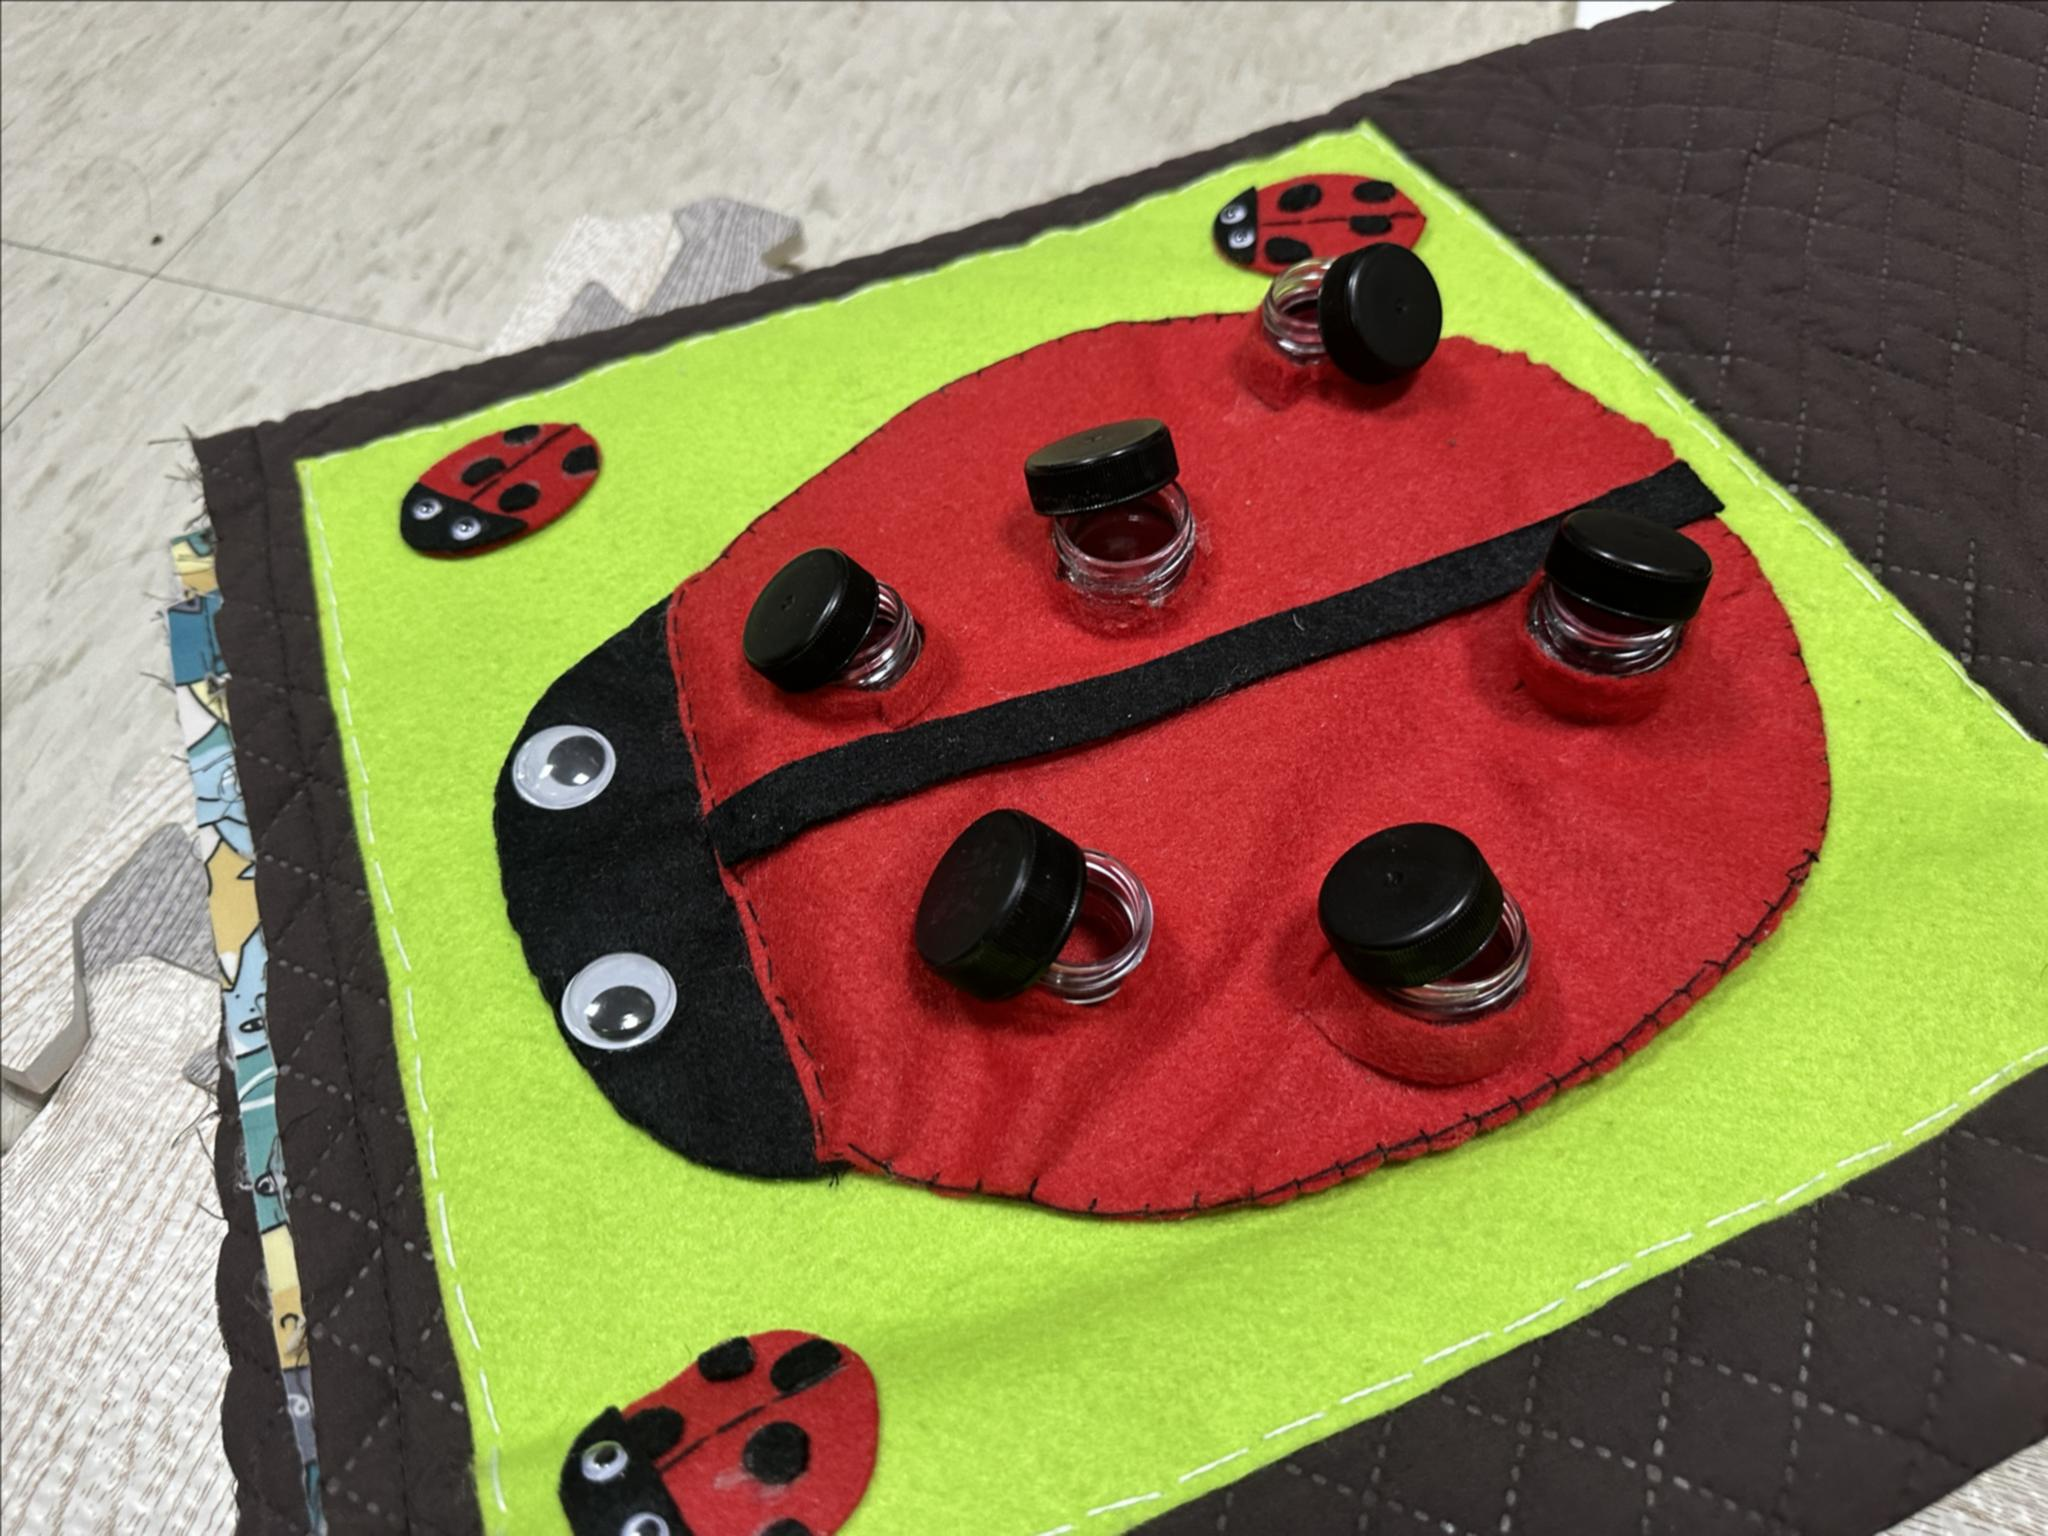cap_ng: (1272, 789, 1559, 1092), (884, 784, 1182, 1036), (1500, 507, 1742, 728), (1006, 400, 1238, 629), (697, 532, 951, 729), (1229, 231, 1466, 423)
